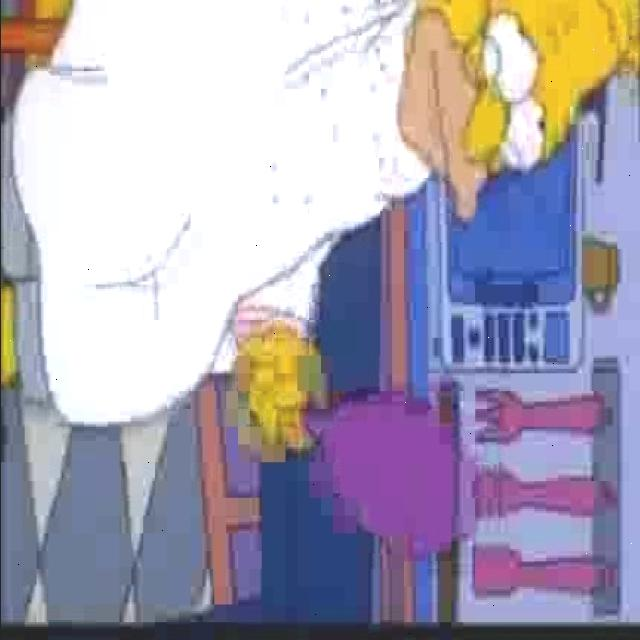Abraham Grampa Simpson: (397, 2, 640, 225)
